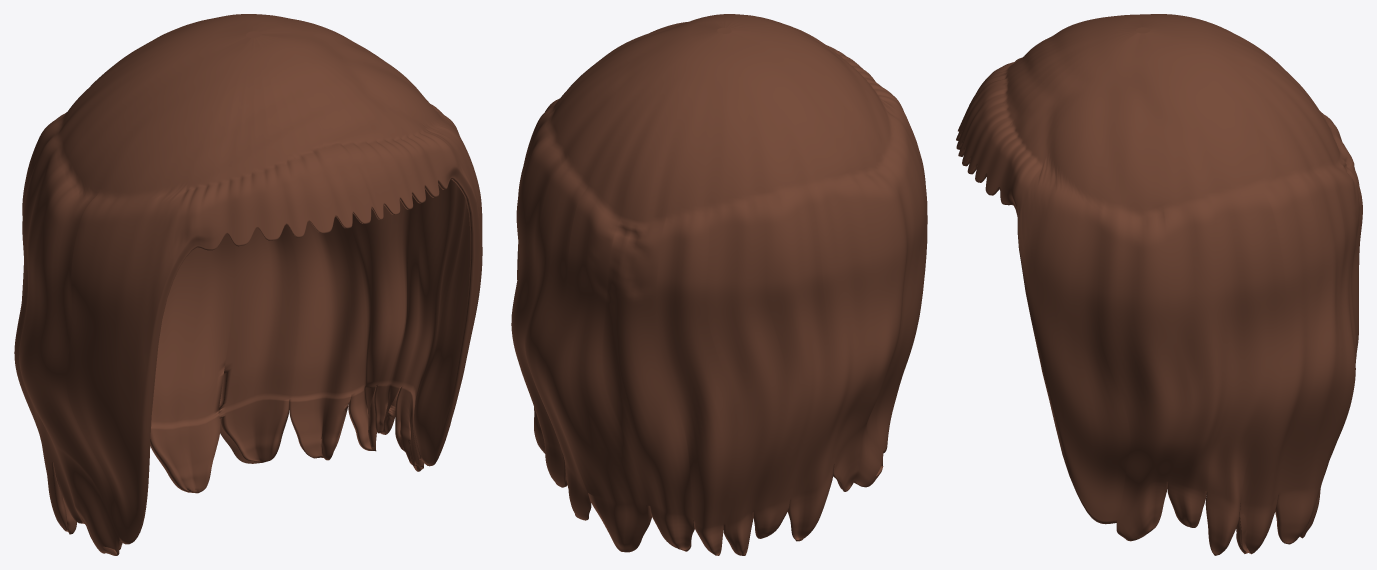
The model's file is long-headband.glb.
The picture shows the model from 3 angles, left to right: view 1: azimuth 30°, elevation 25°; view 2: azimuth 150°, elevation 25°; view 3: azimuth 270°, elevation 25°; orthographic projection. The views are drawn at different scales.
Visible parts, largest first — view 1: Hair / rounded long fringe; view 2: Hair / rounded long fringe; view 3: Hair / rounded long fringe.
Boxes of the visible parts, box(x1,y1,x2,y2) form: Hair / rounded long fringe: box(14, 14, 482, 555); Hair / rounded long fringe: box(511, 14, 927, 555); Hair / rounded long fringe: box(956, 14, 1362, 555).
Bounding box in the file's own units: 0.8536 × 1.04 × 0.7794.
